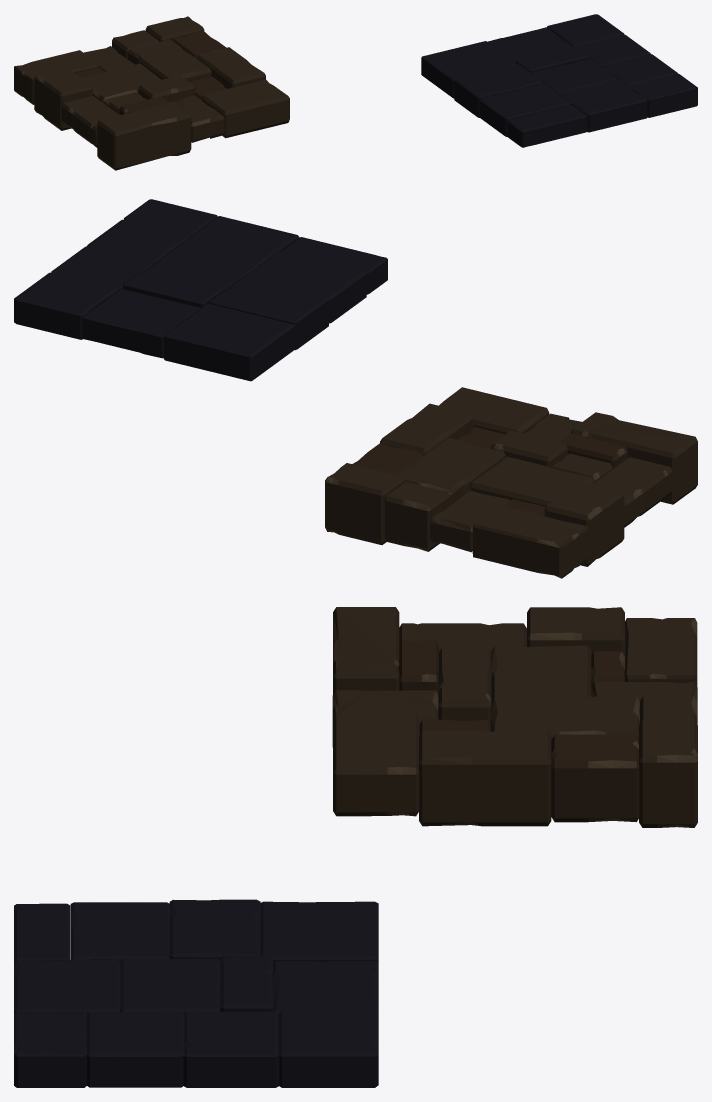
File: Floor_Modular_Cube.obj
3 renders of one model, top to bottom at view 1: azimuth 30°, elevation 25°; view 2: azimuth 150°, elevation 25°; view 3: azimuth 270°, elevation 25°, orthographic. The views are drawn at different scales.
Parts seen in each view (by area): view 1: Wall_Modular_Cube.002, Floor_Modular_Cube.031; view 2: Wall_Modular_Cube.002, Floor_Modular_Cube.031; view 3: Wall_Modular_Cube.002, Floor_Modular_Cube.031.
Part boxes in pixels (x1,y1,x2,y2): Wall_Modular_Cube.002: (14, 16, 289, 170); Floor_Modular_Cube.031: (421, 14, 697, 147); Wall_Modular_Cube.002: (325, 387, 697, 578); Floor_Modular_Cube.031: (14, 199, 387, 381); Wall_Modular_Cube.002: (332, 607, 697, 827); Floor_Modular_Cube.031: (14, 899, 378, 1087).
Size of the model in its own units: 5.62 by 0.4381 by 3.75.
